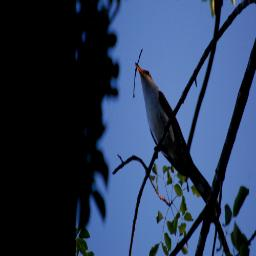Cuckoo: (133, 59, 211, 199)
